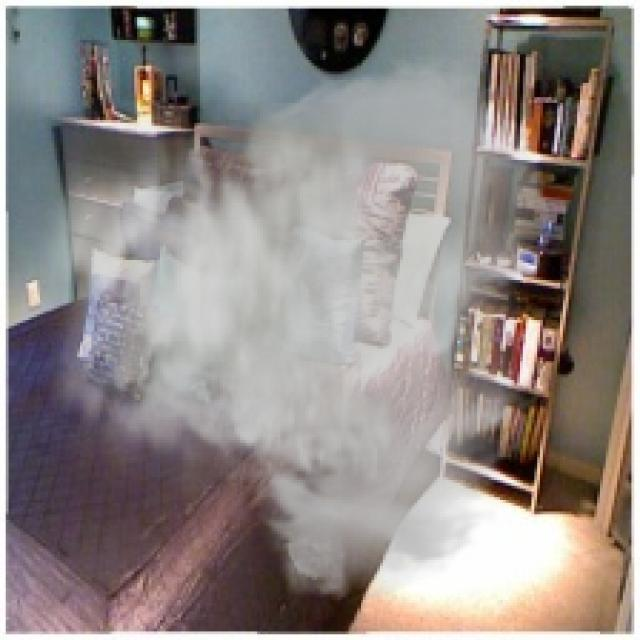smoke: (17, 49, 554, 606)
